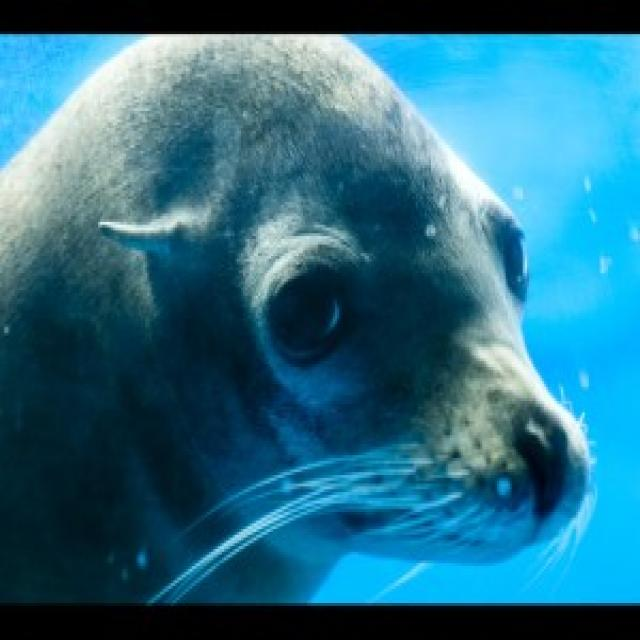Seal: (0, 34, 597, 600)
